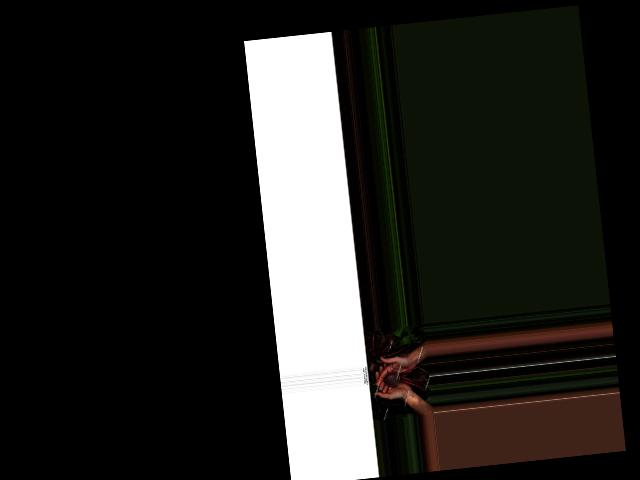beet: (381, 364, 430, 396)
